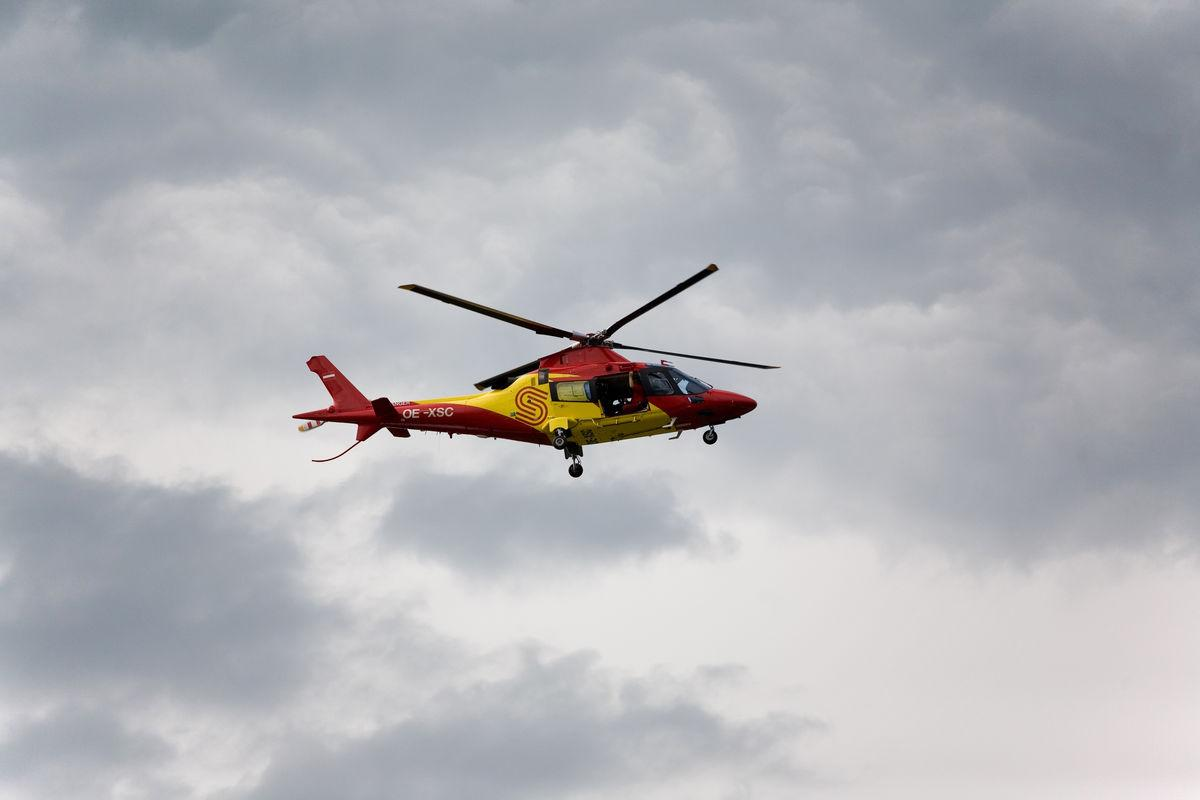airplane: (278, 256, 815, 464)
